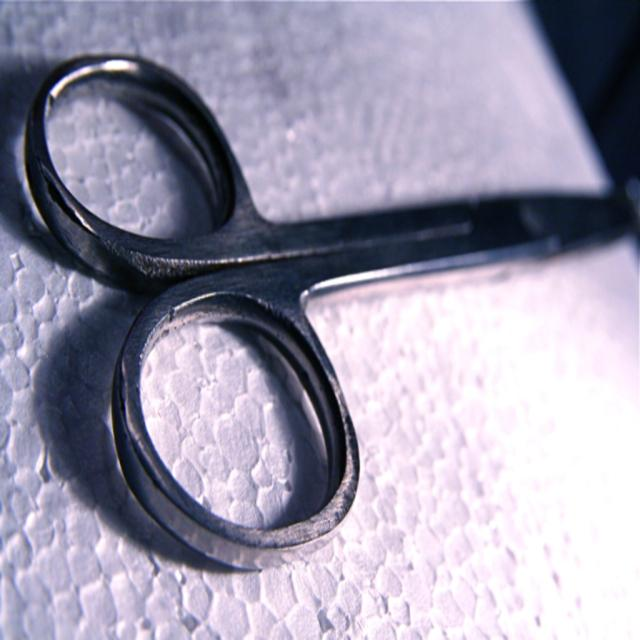scissors: (21, 49, 638, 570)
